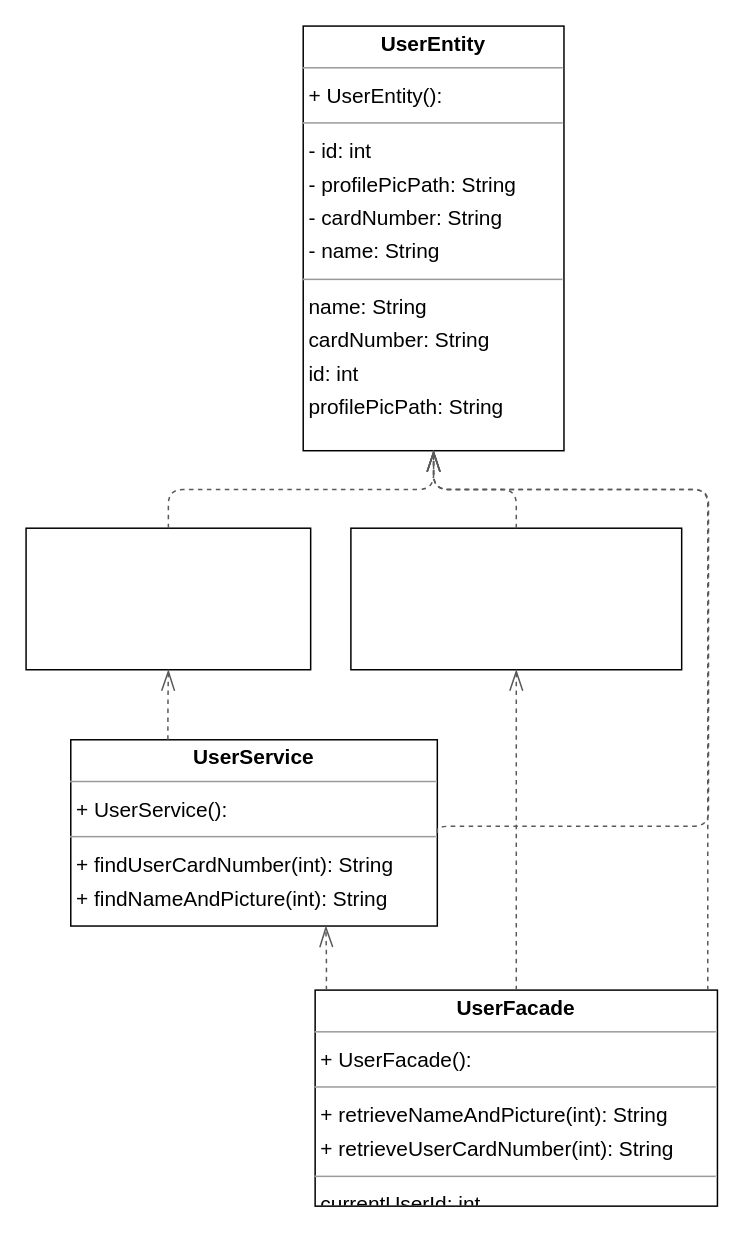
Some shapes in this 755 by 1240 pixel diagram are drawn without their labels. Here are the shapes that lost their labels. From the top down, the centre of each, then its label:
At point (168, 598): "UserRepository + UserRepository(): + findById(int): UserEntity".
At point (515, 598): "AuthenticationService + AuthenticationService(): currentUser: UserEntity".
